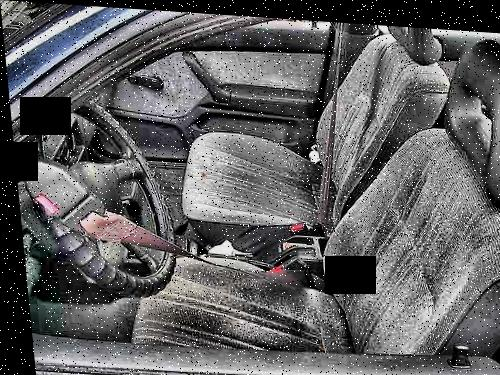seatbelt: (281, 16, 371, 223)
